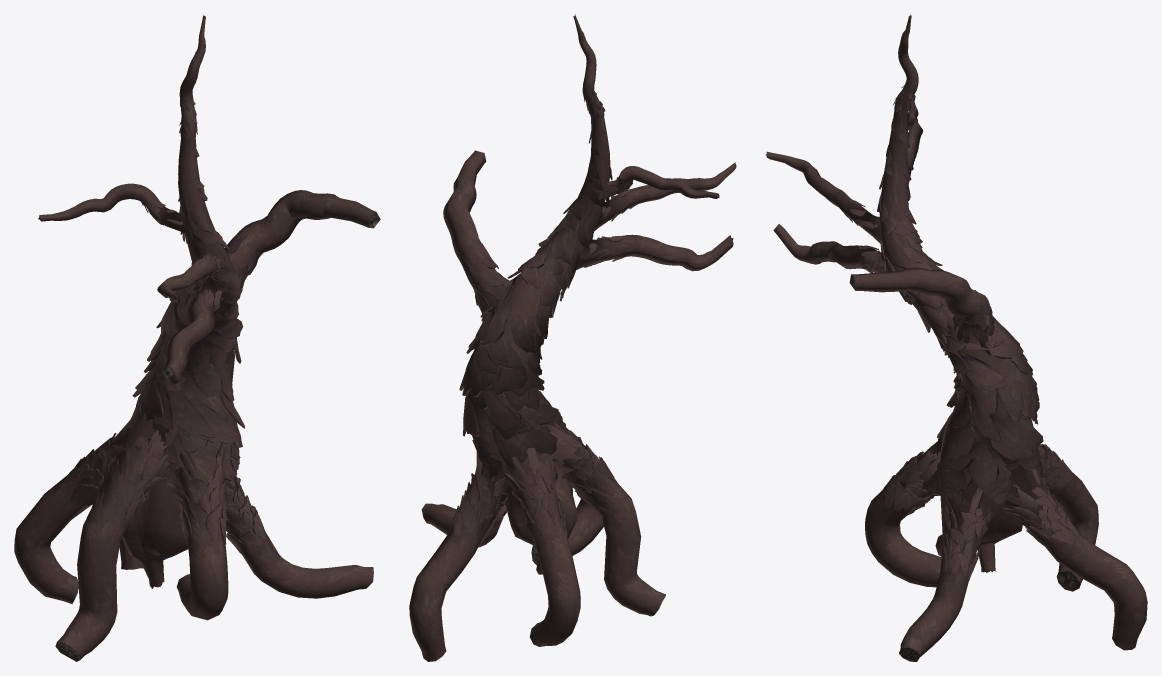
3 renders of one model, left to right at view 1: azimuth 30°, elevation 25°; view 2: azimuth 150°, elevation 25°; view 3: azimuth 270°, elevation 25°, orthographic. The views are drawn at different scales.
Parts seen in each view (by area): view 1: SM_SW_SwampTree_03_LOD0; view 2: SM_SW_SwampTree_03_LOD0; view 3: SM_SW_SwampTree_03_LOD0.
Boxes of the visible parts, x1=… form: SM_SW_SwampTree_03_LOD0: x1=14, y1=15, x2=380, y2=661; SM_SW_SwampTree_03_LOD0: x1=409, y1=14, x2=736, y2=661; SM_SW_SwampTree_03_LOD0: x1=766, y1=14, x2=1147, y2=661.
Bounding box in the file's own units: 5.84 × 10.93 × 6.18.
1 material, 1 textured.
